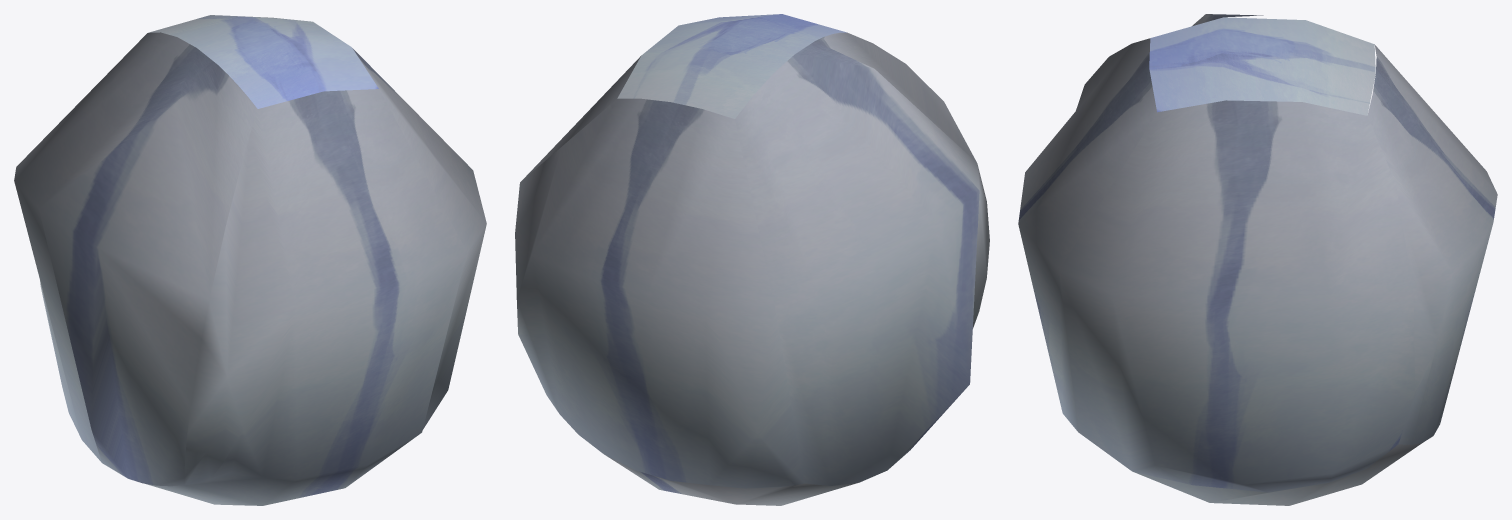
The model's file is rockeroo_small_bald_round.glb.
3 views of the same model, side by side, from view 1: azimuth 30°, elevation 25°; view 2: azimuth 150°, elevation 25°; view 3: azimuth 270°, elevation 25° (orthographic).
Parts seen in each view (by area): view 1: rockeroo_small_bald_round; view 2: rockeroo_small_bald_round; view 3: rockeroo_small_bald_round.
Part boxes in pixels (x1,y1,x2,y2): rockeroo_small_bald_round: (14,15,486,505); rockeroo_small_bald_round: (515,14,989,505); rockeroo_small_bald_round: (1018,14,1497,505).
Size of the model in its own units: 10.76 by 11.32 by 11.11.
1 material, 1 textured.
